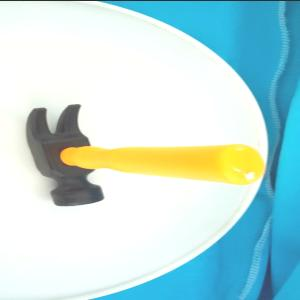martelo: (24, 102, 266, 205)
